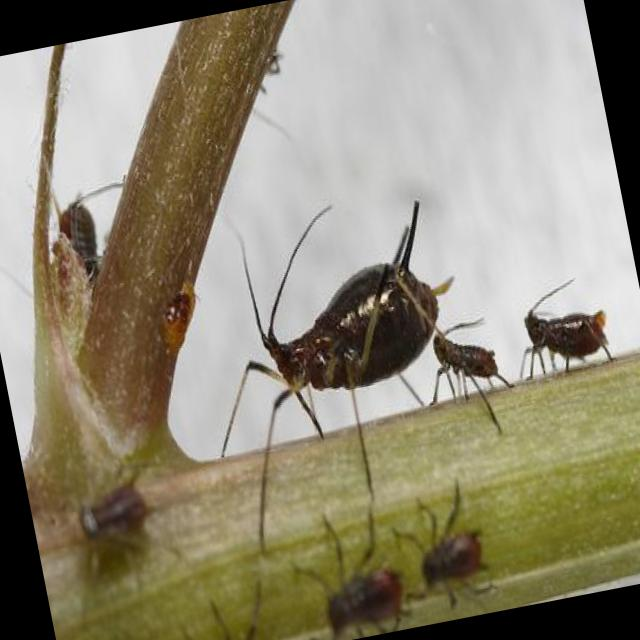Aphids: (174, 198, 488, 544), (498, 268, 628, 406), (418, 296, 518, 431)
